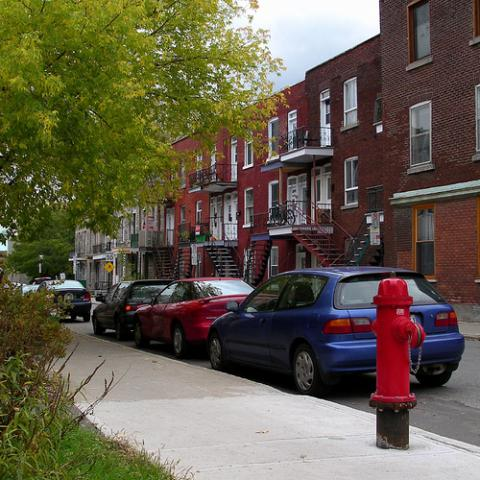car: (205, 270, 467, 393), (134, 277, 257, 358), (91, 281, 174, 341), (37, 279, 93, 322), (22, 283, 42, 295)
